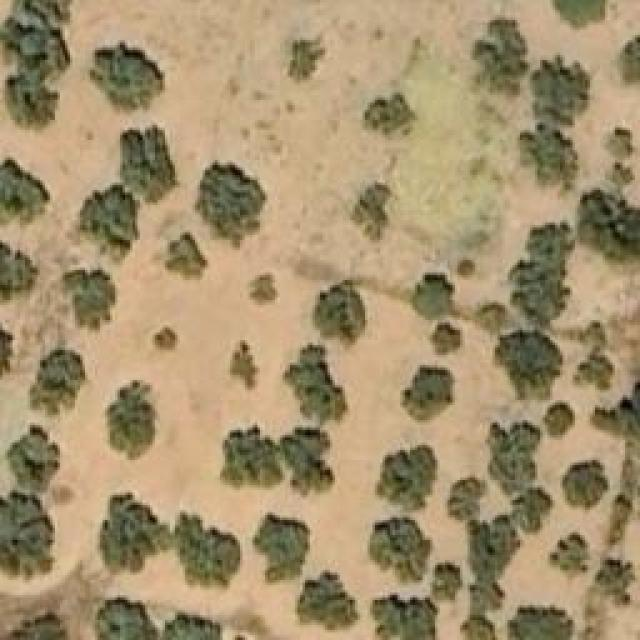Tree: (193, 160, 266, 248), (173, 510, 243, 590), (90, 40, 165, 113), (100, 492, 170, 570), (283, 345, 348, 425), (577, 192, 640, 272), (0, 490, 55, 580), (525, 58, 591, 129), (0, 17, 70, 83), (120, 125, 180, 199), (518, 123, 582, 191), (80, 190, 141, 260), (252, 513, 310, 586), (220, 425, 284, 491), (295, 570, 360, 633), (475, 20, 528, 95), (368, 515, 431, 578), (378, 443, 438, 508), (5, 423, 60, 493), (510, 258, 570, 321), (30, 350, 88, 415), (310, 280, 368, 345), (0, 158, 50, 228), (107, 382, 155, 450), (400, 365, 455, 423), (285, 428, 331, 494), (500, 330, 550, 390), (64, 270, 115, 328), (488, 425, 533, 490), (367, 597, 432, 640), (94, 597, 157, 640), (0, 243, 40, 306), (520, 218, 576, 262), (5, 80, 55, 128), (352, 182, 390, 240), (165, 232, 210, 280), (412, 273, 460, 318), (563, 460, 608, 508), (507, 607, 572, 640), (552, 0, 612, 32), (362, 95, 410, 135), (228, 338, 261, 393), (573, 351, 615, 394), (595, 558, 635, 603), (453, 473, 486, 523), (425, 565, 463, 608), (550, 533, 590, 573), (163, 615, 226, 640), (0, 617, 67, 640), (288, 38, 323, 81), (617, 34, 640, 87), (515, 493, 548, 528), (605, 125, 638, 160), (545, 400, 575, 435), (250, 275, 280, 305), (600, 165, 634, 190), (430, 325, 460, 353), (460, 615, 495, 639), (455, 255, 480, 277), (155, 328, 178, 351)
